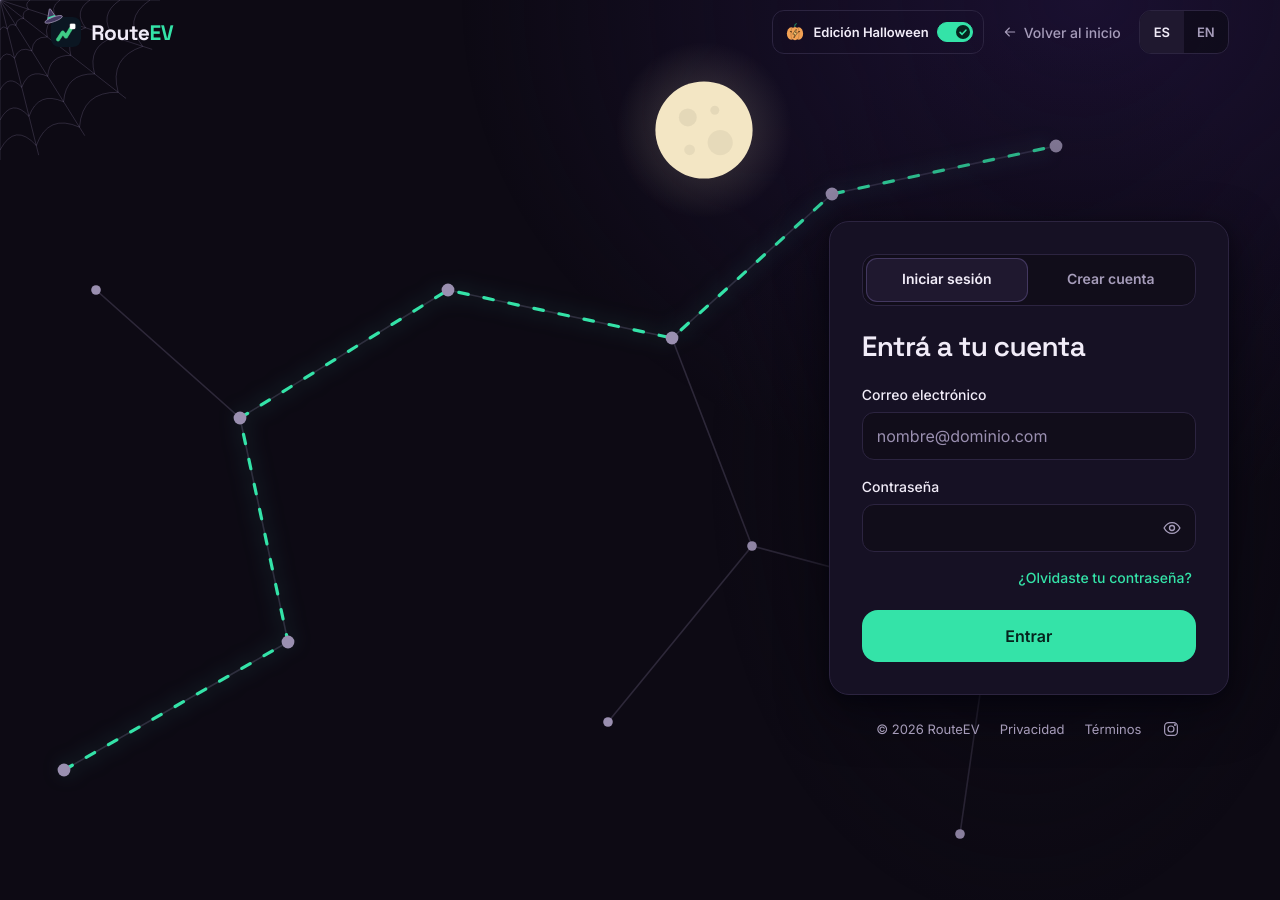
Scenario: LoginPage › recuperar la contraseña: correo → código → contraseña nueva, y pedir otro código vuelve al código
Type "marcela@gmail.com" into the field labelled "Correo electrónico".
click(1029, 436); type("marcela@gmail.com")  # box 862,412 -> 1196,460
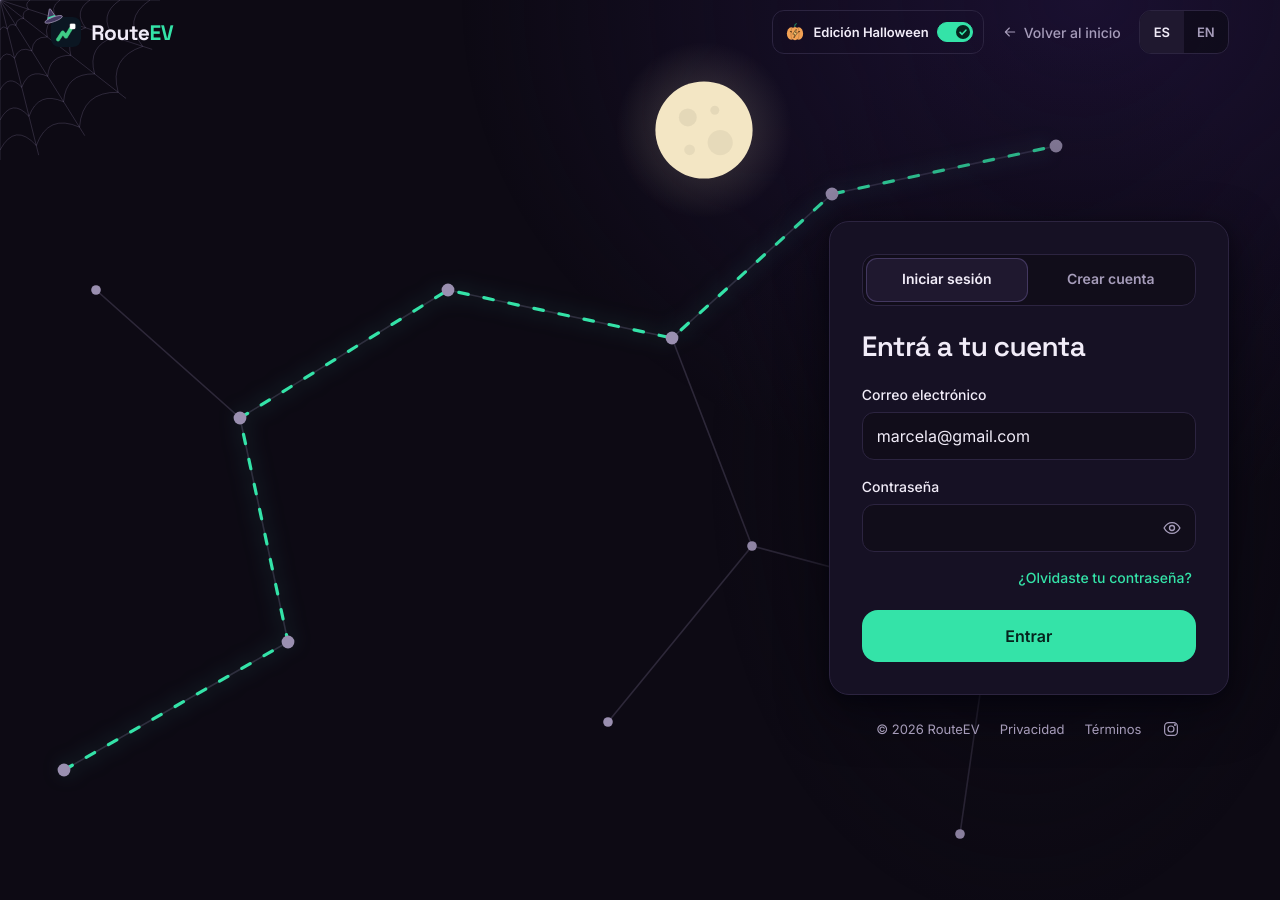
Click the button "¿Olvidaste tu contraseña?".
click(1105, 578)  # box 1014,556 -> 1196,600
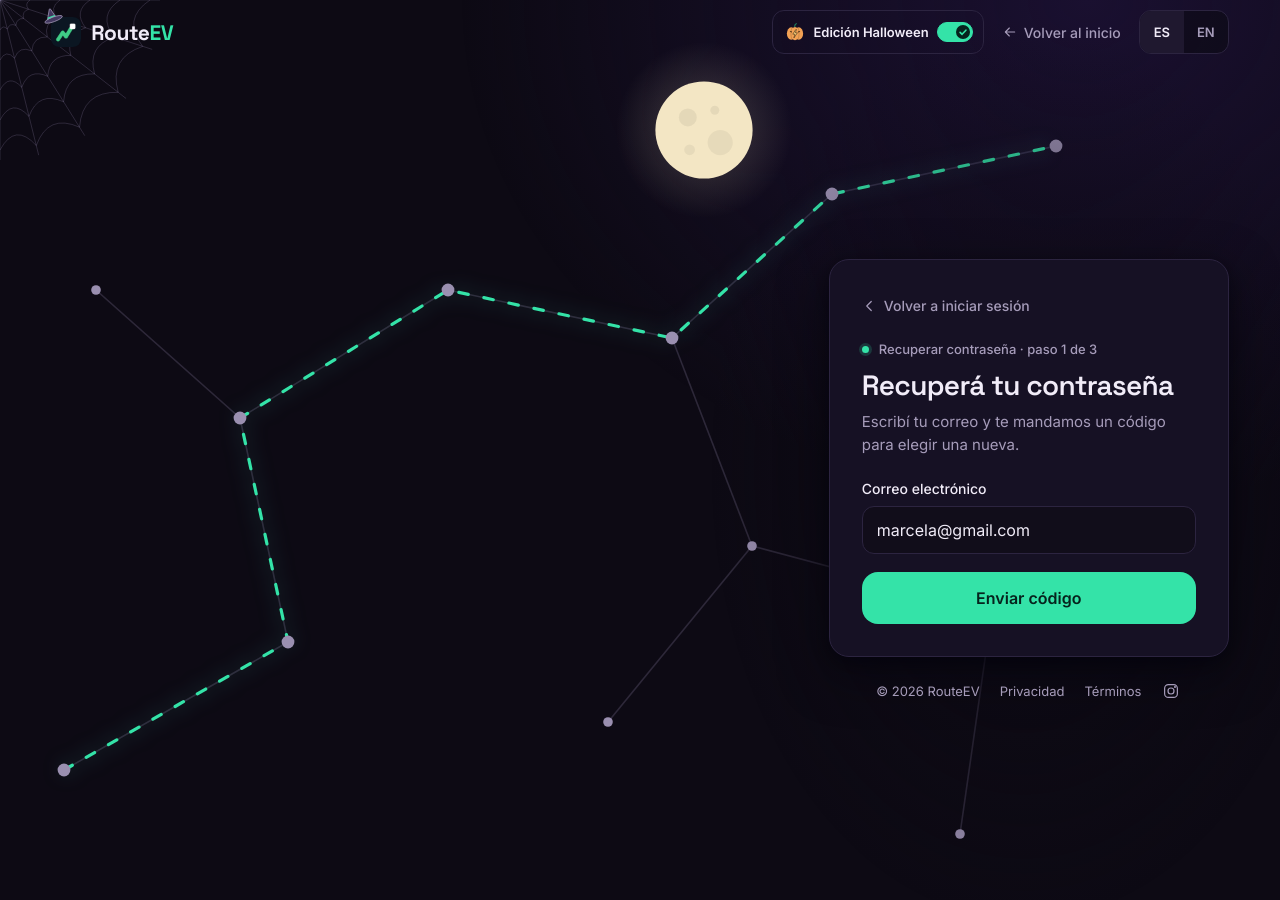
Result: the heading "Recuperá tu contraseña" is shown at 862,369 -> 1196,401
Click the button "Enviar código".
click(1029, 598)  # box 862,572 -> 1196,624
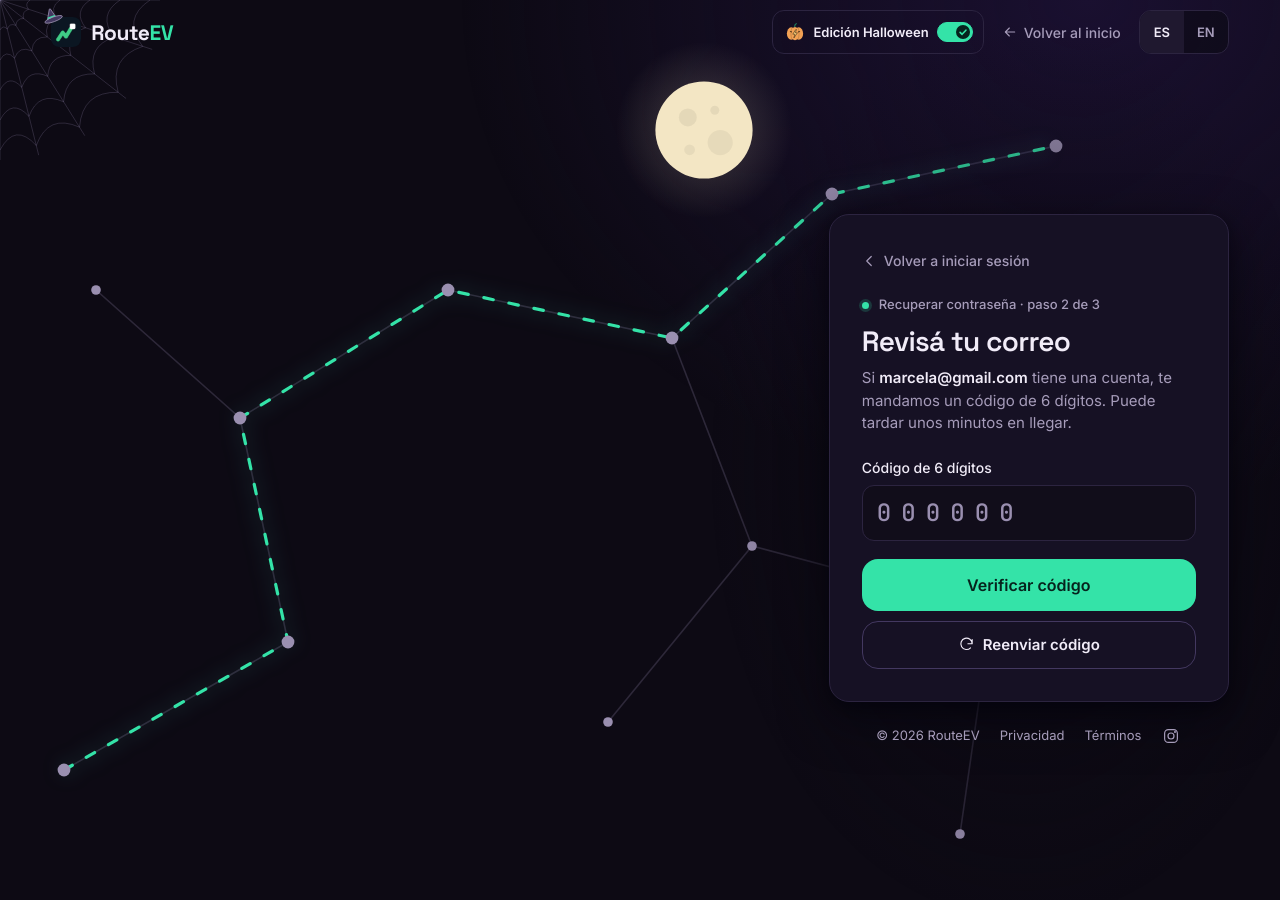
Result: the heading "Revisá tu correo" is shown at 862,323 -> 1070,359
Result: the text "tiene una cuenta, te mandamos un código" is shown at 862,368 -> 1172,432
Type "482913" into the field labelled "Código de 6 dígitos".
click(1029, 513); type("482913")  # box 862,485 -> 1196,541
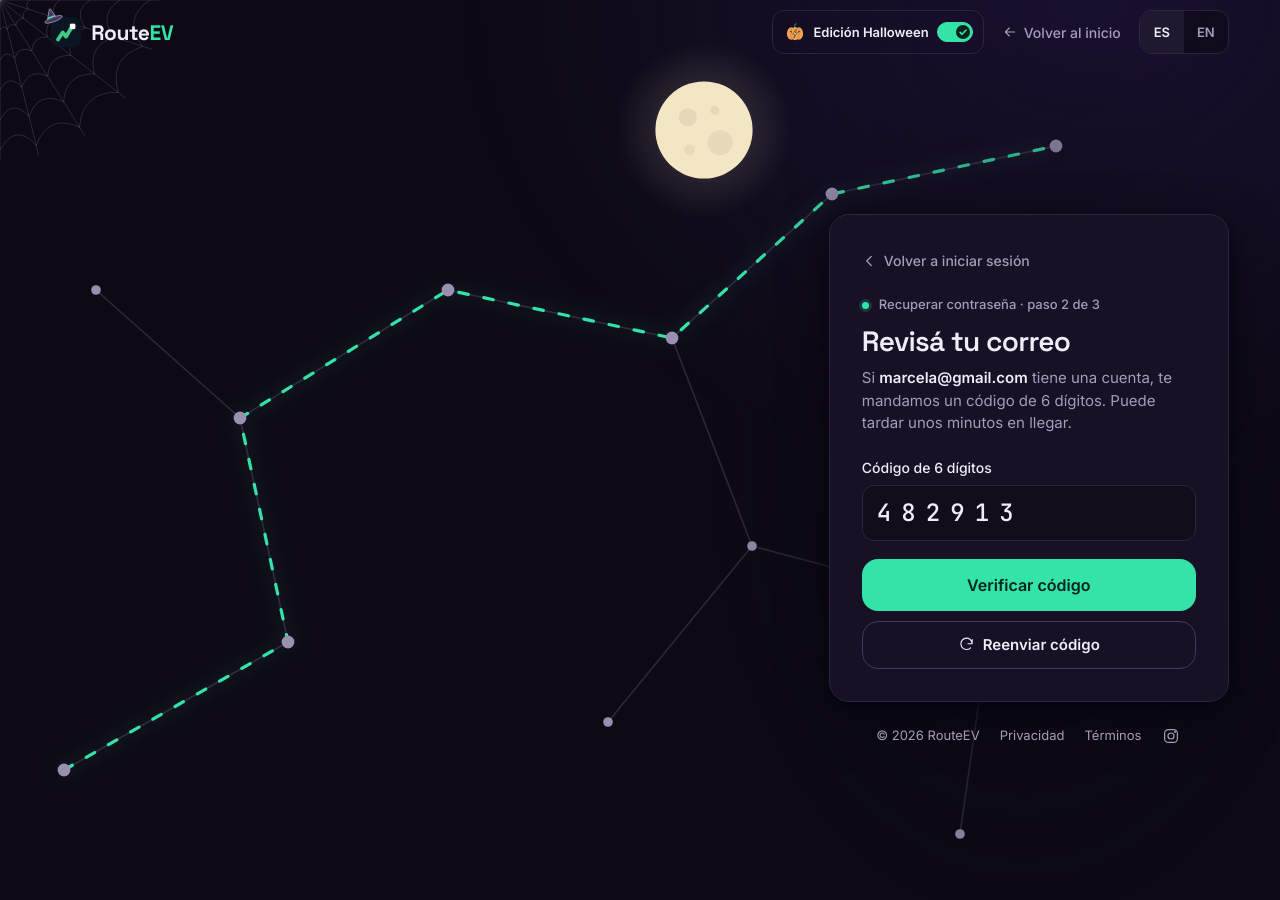
Click the button "Verificar código".
click(1029, 585)  # box 862,559 -> 1196,611
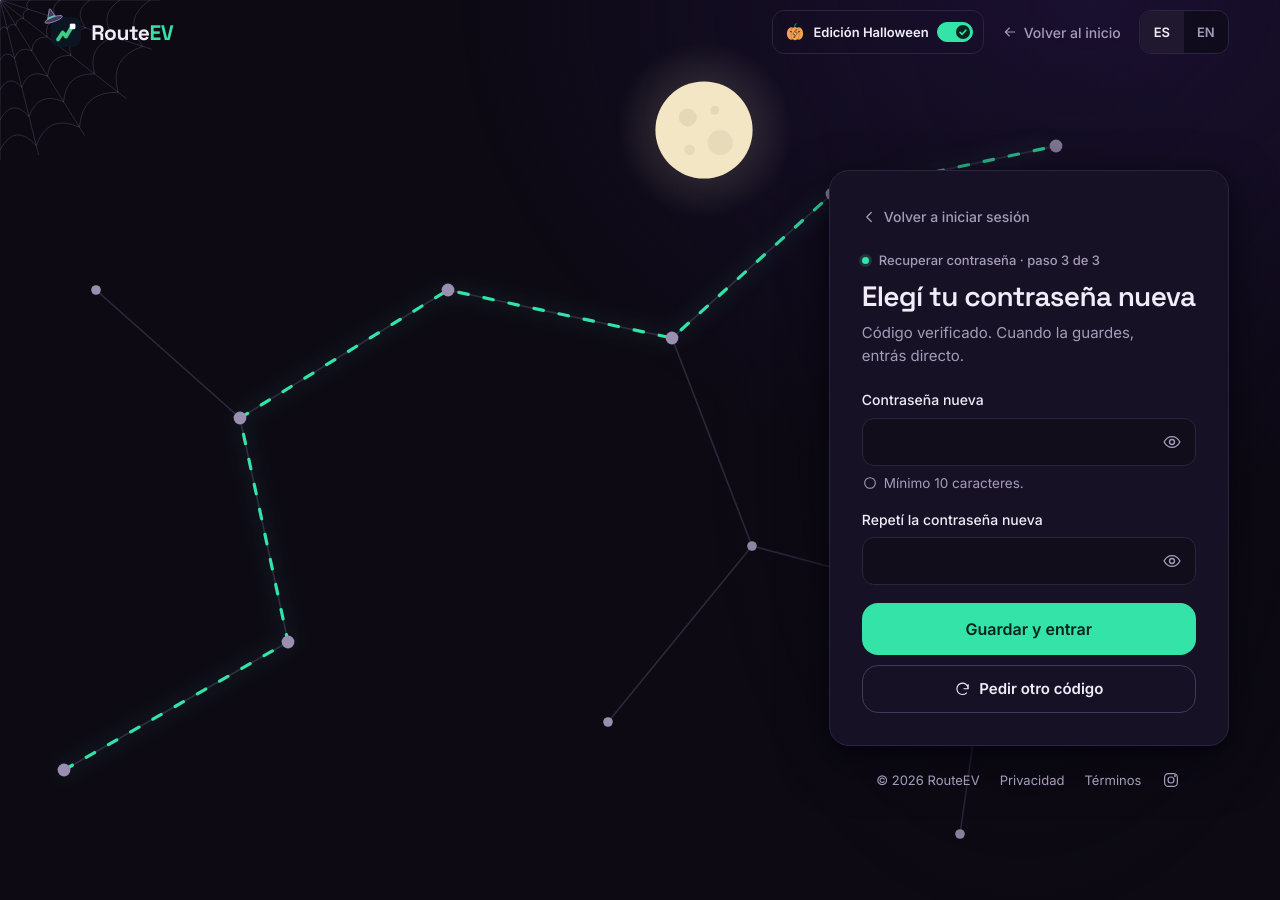
Result: the heading "Elegí tu contraseña nueva" is shown at 862,280 -> 1196,312
Click the button "Pedir otro código".
click(1029, 689)  # box 862,665 -> 1196,713
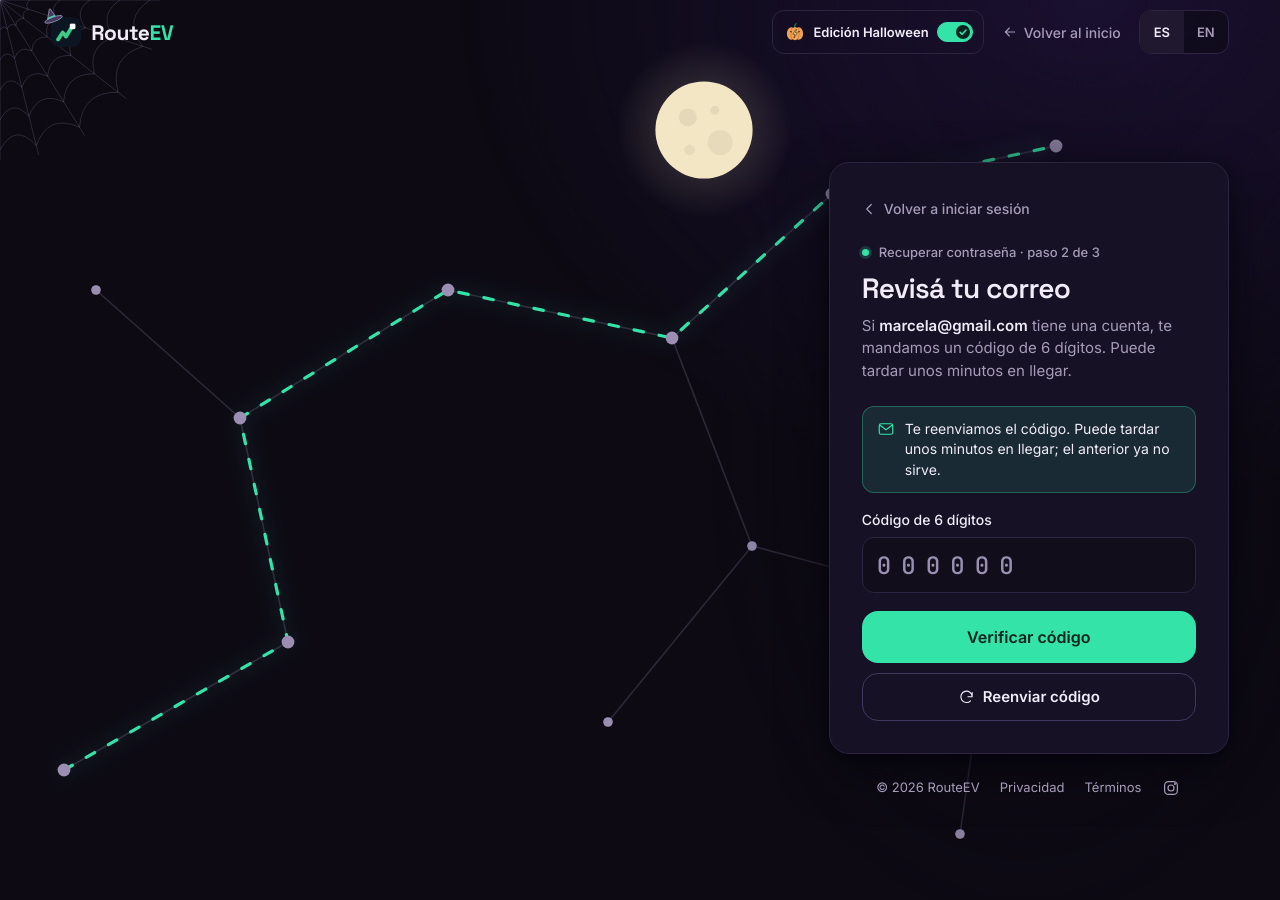
Result: the heading "Revisá tu correo" is shown at 862,270 -> 1070,306
Result: the message shows "el anterior ya no sirve" at 905,420 -> 1170,478
